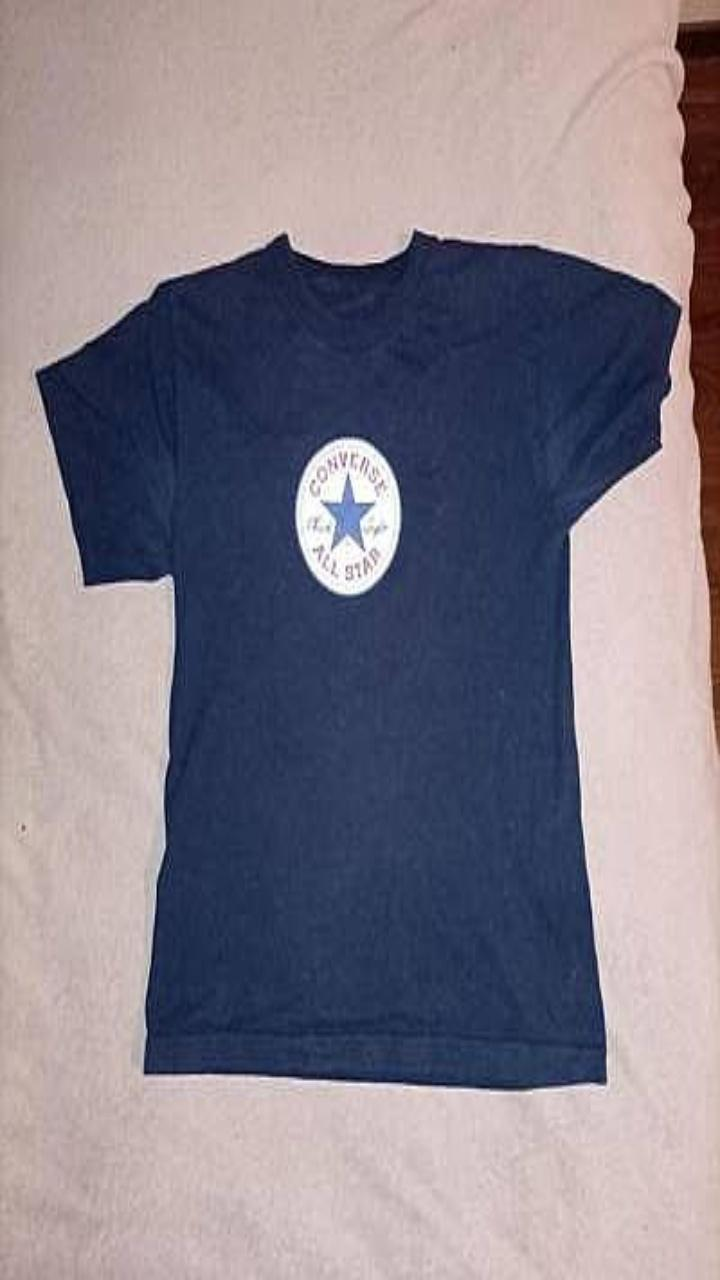T-Shirt: (35, 230, 679, 1088)
